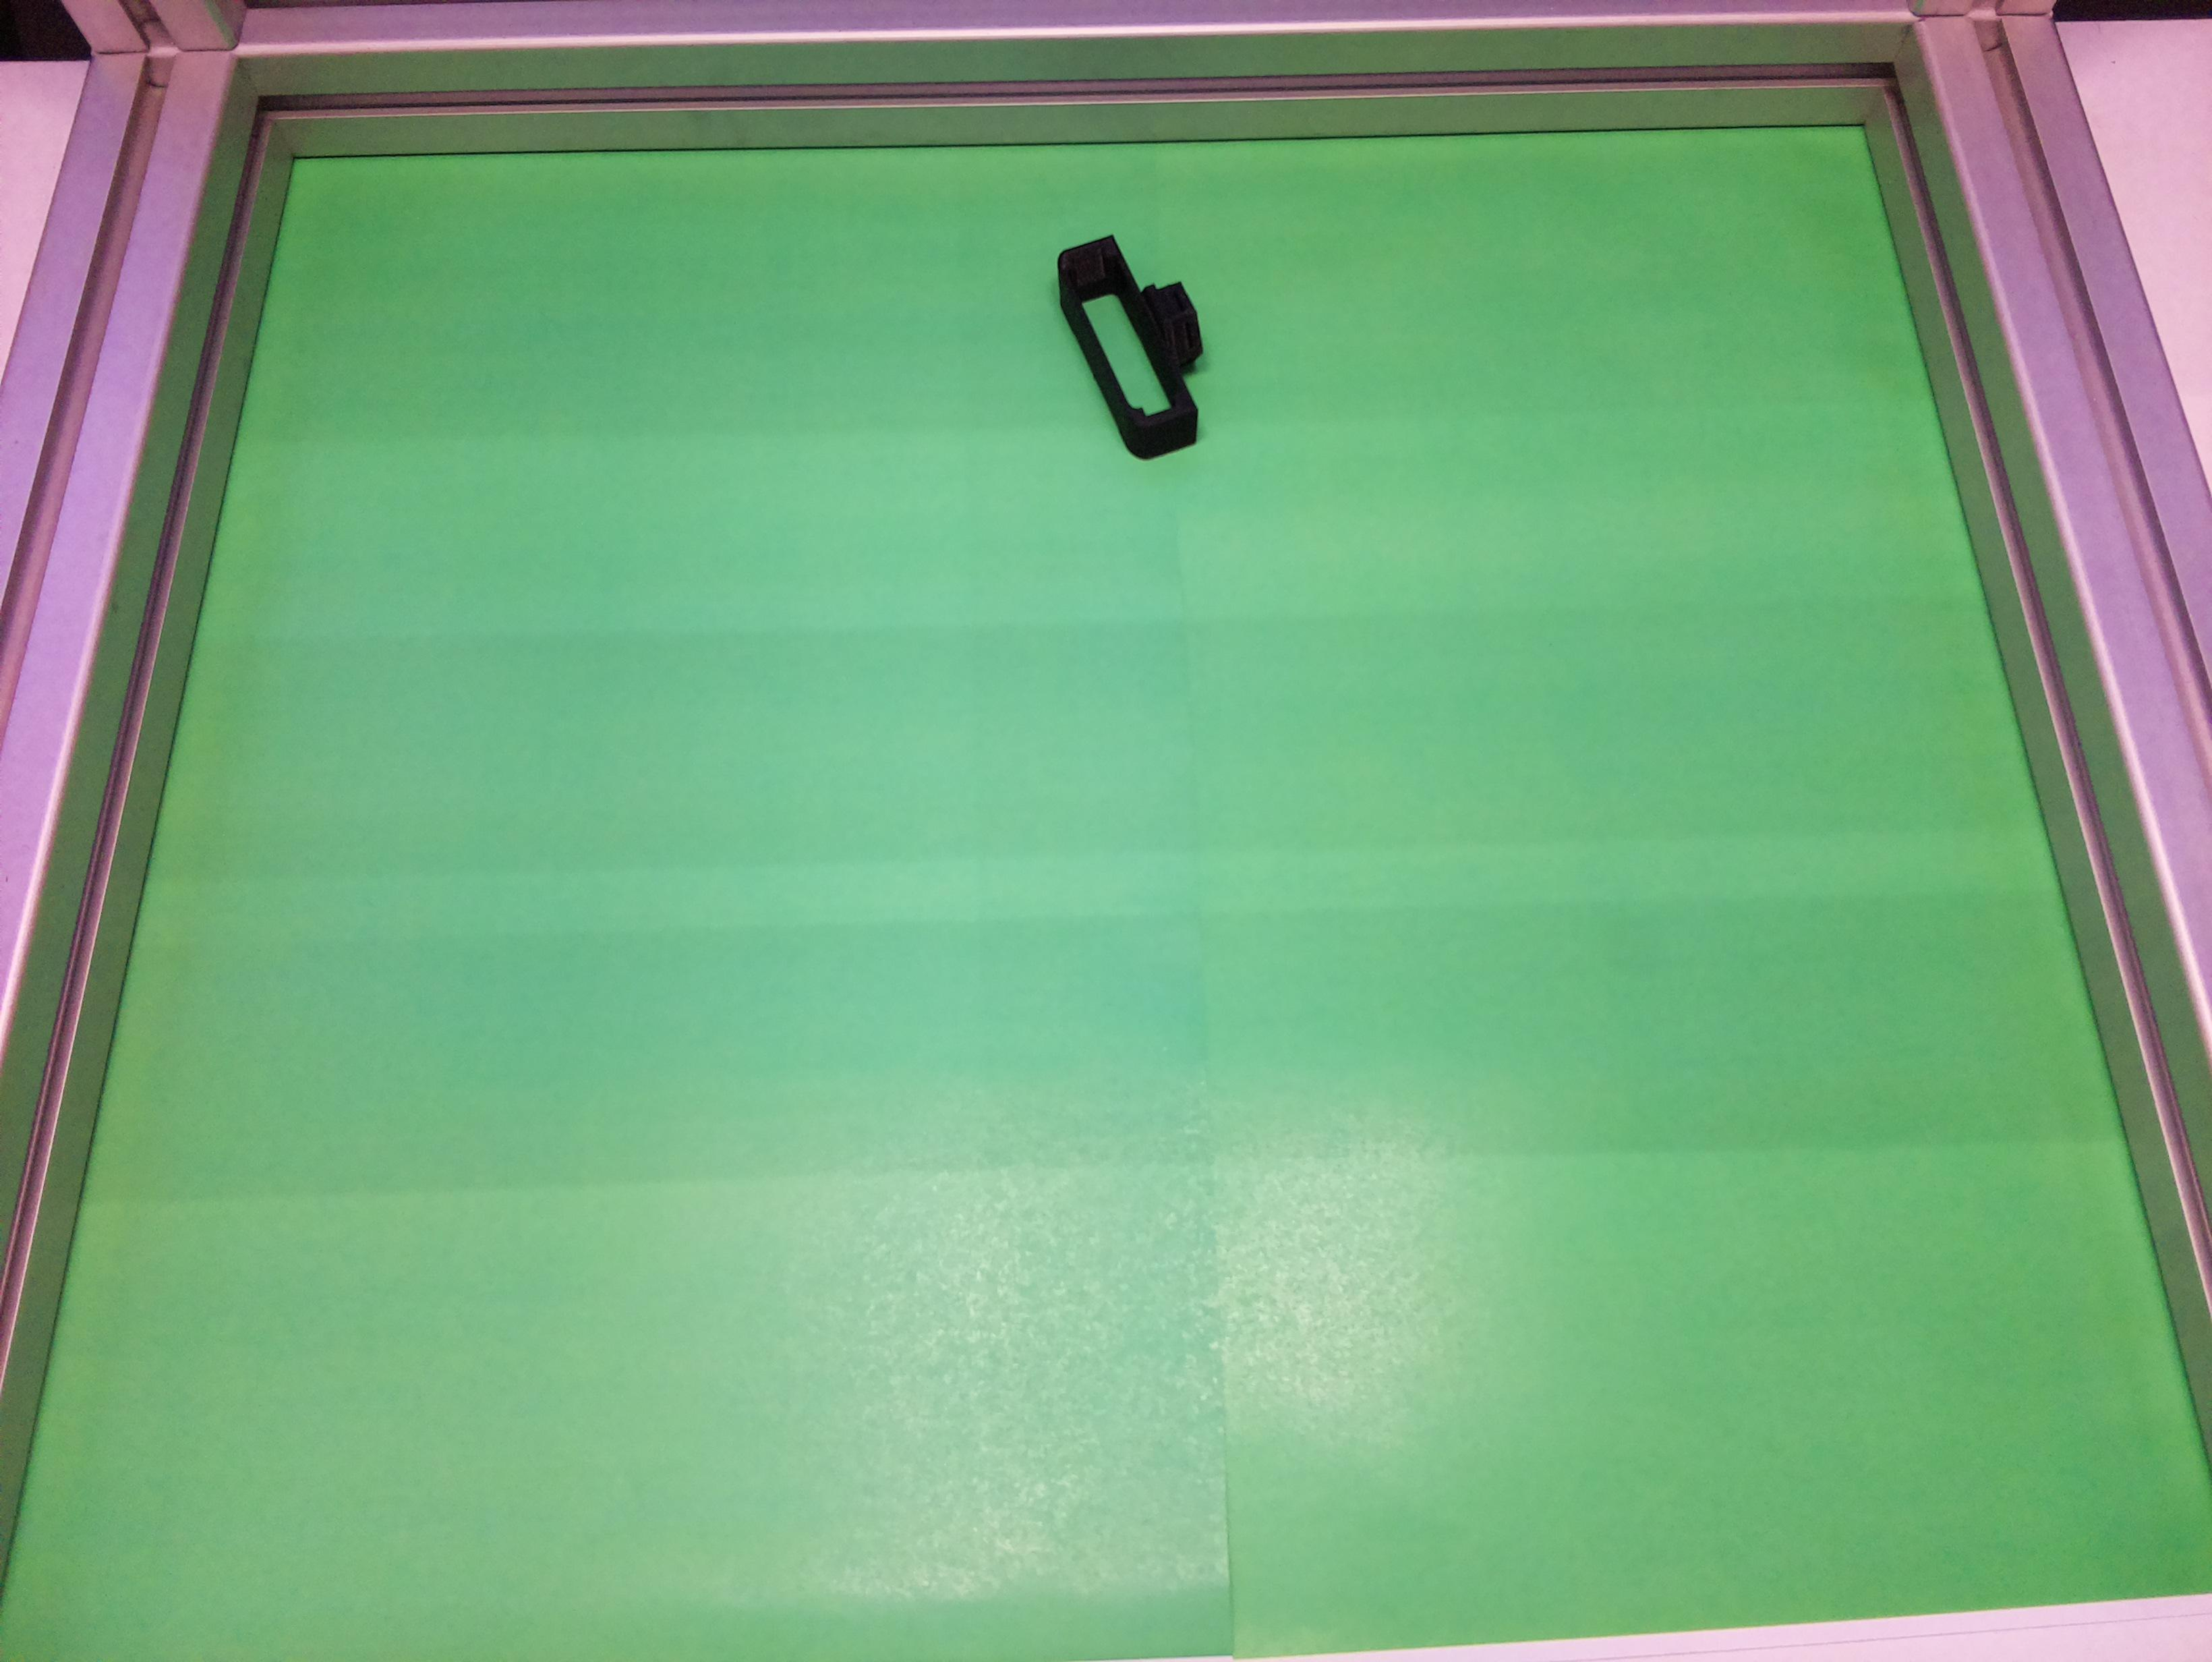cutter_holder: (1035, 209, 1248, 471)
